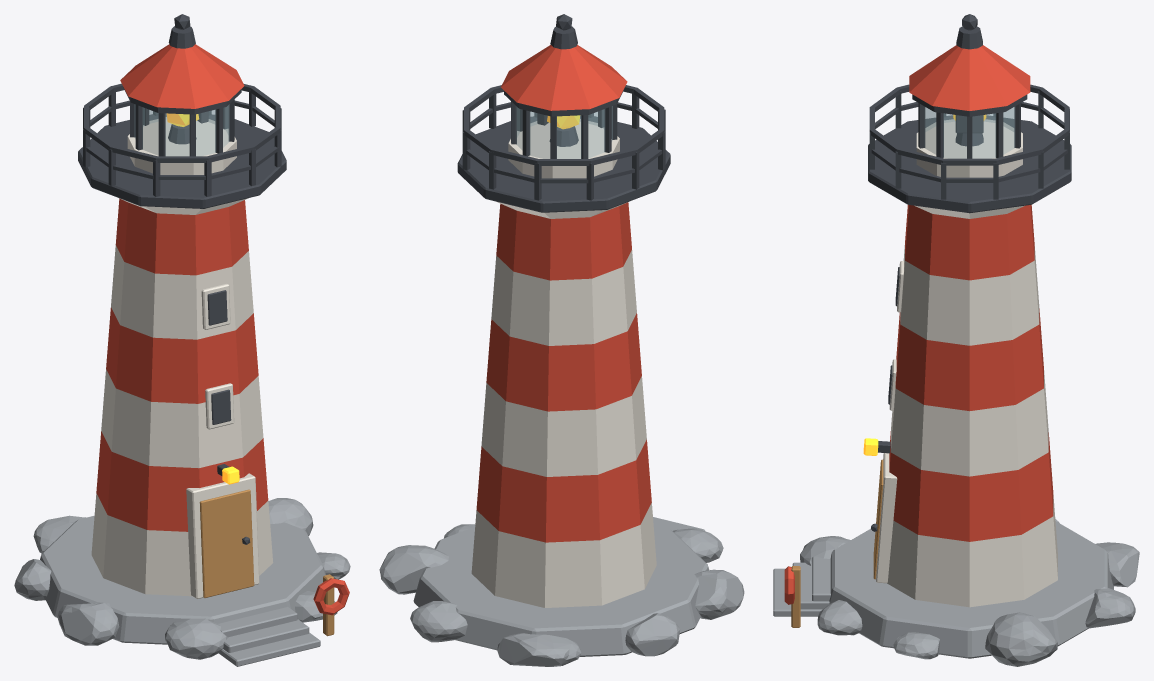
The model's file is striped-harbor-lighthouse.glb.
3 views of the same model, side by side, from view 1: azimuth 30°, elevation 25°; view 2: azimuth 150°, elevation 25°; view 3: azimuth 270°, elevation 25° (orthographic).
Parts seen in each view (by area): view 1: Tower, Base_Plinth, Gallery_Deck, Roof, Door, Lantern_Wall, Lantern_Glass, Door_Frame, Rail_Top, Rock_1, Rock_2, Rail_Mid (+15 smaller); view 2: Tower, Base_Plinth, Gallery_Deck, Roof, Lantern_Wall, Lantern_Glass, Rail_Top, Rock_6, Rock_4, Rock_1, Rock_5, Rock_7 (+4 smaller); view 3: Tower, Base_Plinth, Gallery_Deck, Roof, Lantern_Wall, Lantern_Glass, Rock_4, Rail_Top, Rail_Mid, Door_Frame, Rock_5, Rock_6 (+9 smaller).
Boxes of the visible parts, x1=… form: Tower: x1=91, y1=198, x2=273, y2=596; Base_Plinth: x1=40, y1=515, x2=325, y2=644; Gallery_Deck: x1=78, y1=113, x2=286, y2=208; Roof: x1=120, y1=44, x2=244, y2=108; Door: x1=199, y1=489, x2=254, y2=597; Lantern_Wall: x1=127, y1=117, x2=236, y2=174; Lantern_Glass: x1=134, y1=104, x2=229, y2=155; Door_Frame: x1=186, y1=473, x2=259, y2=599; Rail_Top: x1=84, y1=83, x2=280, y2=162; Rock_1: x1=57, y1=602, x2=119, y2=645; Rock_2: x1=165, y1=618, x2=227, y2=659; Rail_Mid: x1=86, y1=100, x2=278, y2=179; Tower: x1=471, y1=202, x2=656, y2=607; Base_Plinth: x1=413, y1=525, x2=709, y2=656; Gallery_Deck: x1=457, y1=115, x2=670, y2=212; Roof: x1=501, y1=45, x2=627, y2=110; Lantern_Wall: x1=508, y1=119, x2=619, y2=178; Lantern_Glass: x1=516, y1=106, x2=612, y2=158; Rail_Top: x1=464, y1=85, x2=664, y2=165; Rock_6: x1=497, y1=633, x2=581, y2=666; Rock_4: x1=379, y1=545, x2=448, y2=594; Rock_1: x1=694, y1=569, x2=744, y2=619; Rock_5: x1=410, y1=601, x2=467, y2=642; Rock_7: x1=625, y1=613, x2=680, y2=656; Tower: x1=887, y1=204, x2=1057, y2=607; Base_Plinth: x1=829, y1=521, x2=1113, y2=658; Gallery_Deck: x1=868, y1=115, x2=1071, y2=213; Roof: x1=909, y1=45, x2=1030, y2=110; Lantern_Wall: x1=916, y1=119, x2=1022, y2=177; Lantern_Glass: x1=924, y1=107, x2=1014, y2=158; Rock_4: x1=985, y1=612, x2=1057, y2=666; Rail_Top: x1=869, y1=84, x2=1069, y2=165; Rail_Mid: x1=871, y1=102, x2=1067, y2=182; Door_Frame: x1=876, y1=453, x2=897, y2=583; Rock_5: x1=1085, y1=588, x2=1135, y2=628; Rock_6: x1=1095, y1=542, x2=1139, y2=587.
Size of the model in its own units: 22.3 by 41.41 by 23.63.
